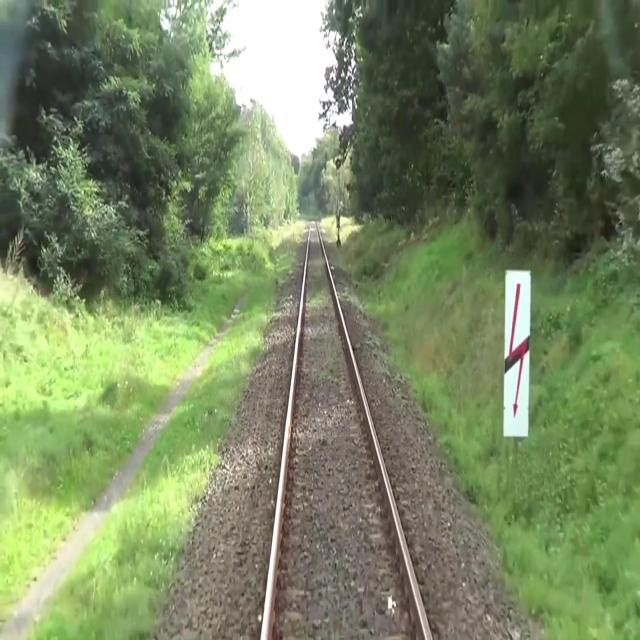rail-track: (267, 222, 427, 639)
